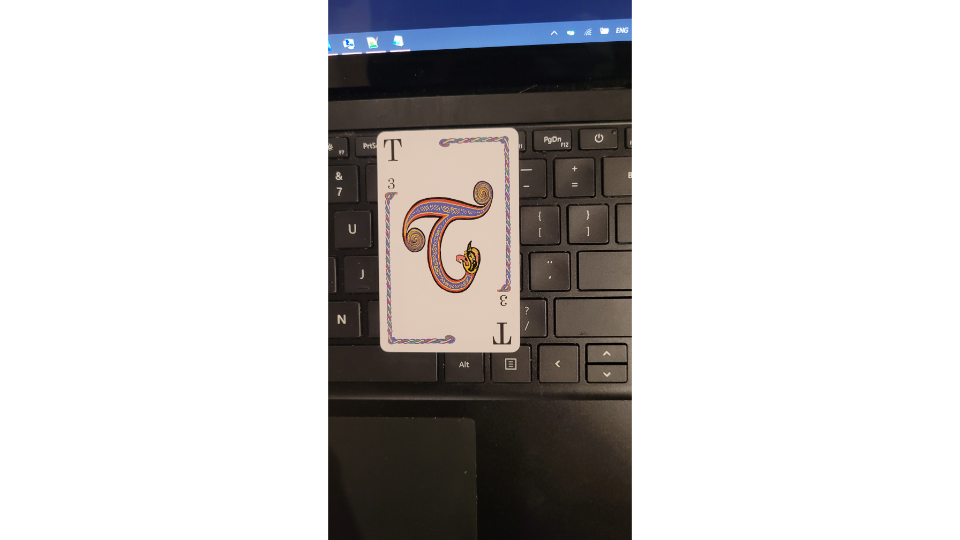T: (373, 123, 526, 355)
